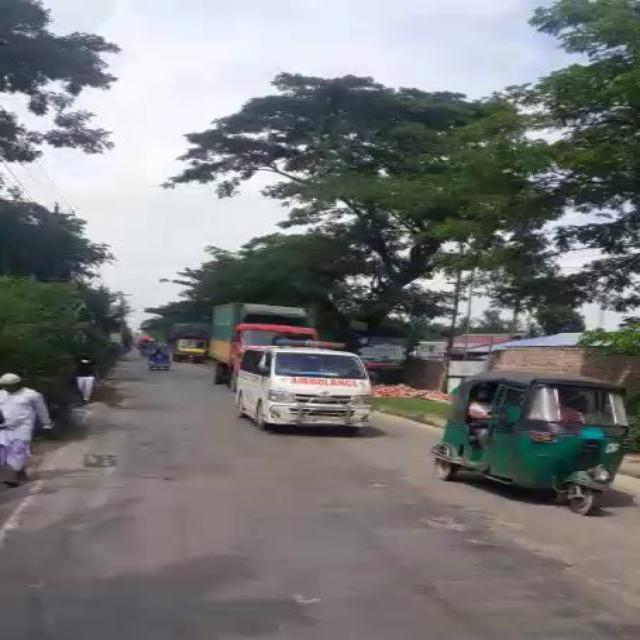ambulance: (232, 342, 374, 428)
auto rickshaw: (143, 340, 166, 370)
three wheelers -CNG-: (430, 372, 630, 516)
truck: (205, 297, 314, 378), (168, 322, 203, 362)
